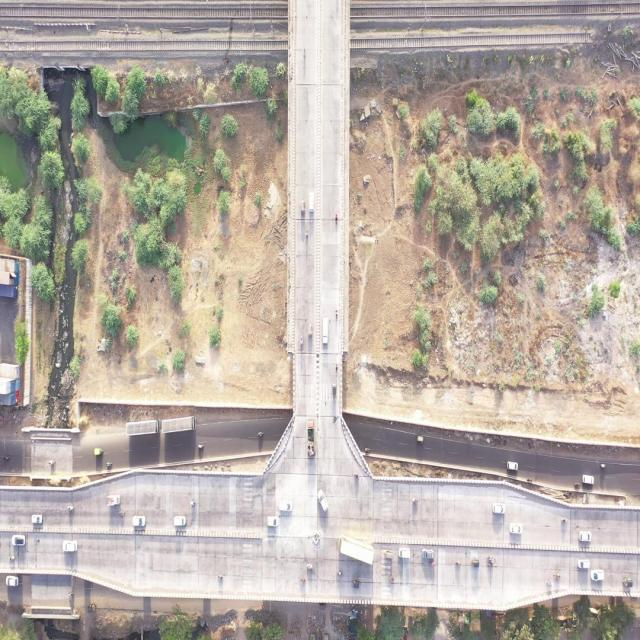3W: (622, 577, 634, 589), (87, 602, 97, 614), (94, 447, 104, 458), (416, 433, 425, 445), (352, 579, 362, 589), (384, 550, 394, 560), (308, 322, 314, 338), (331, 383, 337, 398), (471, 559, 480, 568), (301, 199, 305, 215)
Bus: (338, 533, 374, 565), (126, 419, 160, 437), (162, 416, 196, 434)
Cars: (317, 487, 329, 513), (62, 539, 78, 553), (12, 533, 26, 548), (5, 574, 20, 588), (322, 315, 329, 345), (266, 514, 280, 528), (578, 530, 592, 544), (131, 515, 147, 527), (174, 514, 187, 528), (590, 569, 604, 582), (509, 522, 523, 535), (492, 502, 506, 515), (278, 500, 292, 512), (506, 460, 520, 472), (31, 513, 44, 525), (398, 547, 411, 559), (422, 547, 434, 560), (582, 474, 595, 486), (308, 191, 315, 213), (578, 558, 590, 570)
LCV: (106, 494, 122, 507)
M2W: (553, 572, 562, 580), (560, 517, 569, 525), (67, 504, 75, 512), (412, 496, 420, 504), (48, 459, 57, 466), (486, 561, 495, 568), (190, 501, 198, 508), (299, 577, 307, 584), (306, 562, 313, 570), (454, 560, 462, 567), (546, 580, 554, 587), (600, 463, 607, 471), (364, 447, 372, 454), (354, 472, 359, 482), (257, 430, 264, 437), (119, 509, 126, 516), (388, 575, 395, 582), (68, 590, 74, 598), (335, 362, 339, 374), (2, 455, 11, 460), (106, 461, 113, 467), (217, 574, 224, 580), (336, 570, 343, 576), (429, 561, 436, 567), (335, 212, 338, 226), (8, 556, 16, 561), (486, 555, 494, 560), (574, 482, 582, 487), (526, 477, 534, 482), (300, 336, 303, 348), (335, 308, 338, 320), (306, 227, 309, 239), (198, 445, 204, 449), (304, 46, 306, 58)
MAV: (307, 417, 316, 458)
